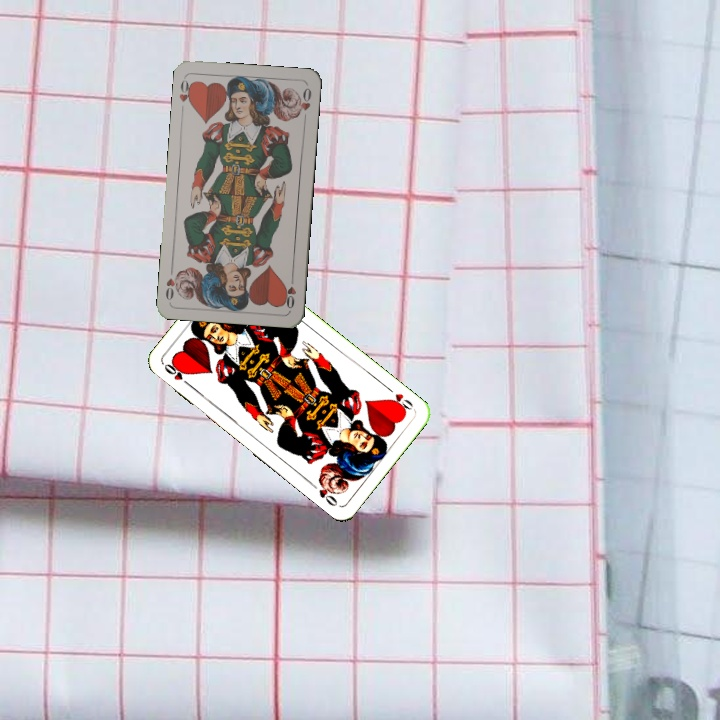HO: (383, 383, 417, 415), (160, 359, 195, 390), (281, 271, 299, 311), (175, 74, 196, 108)
